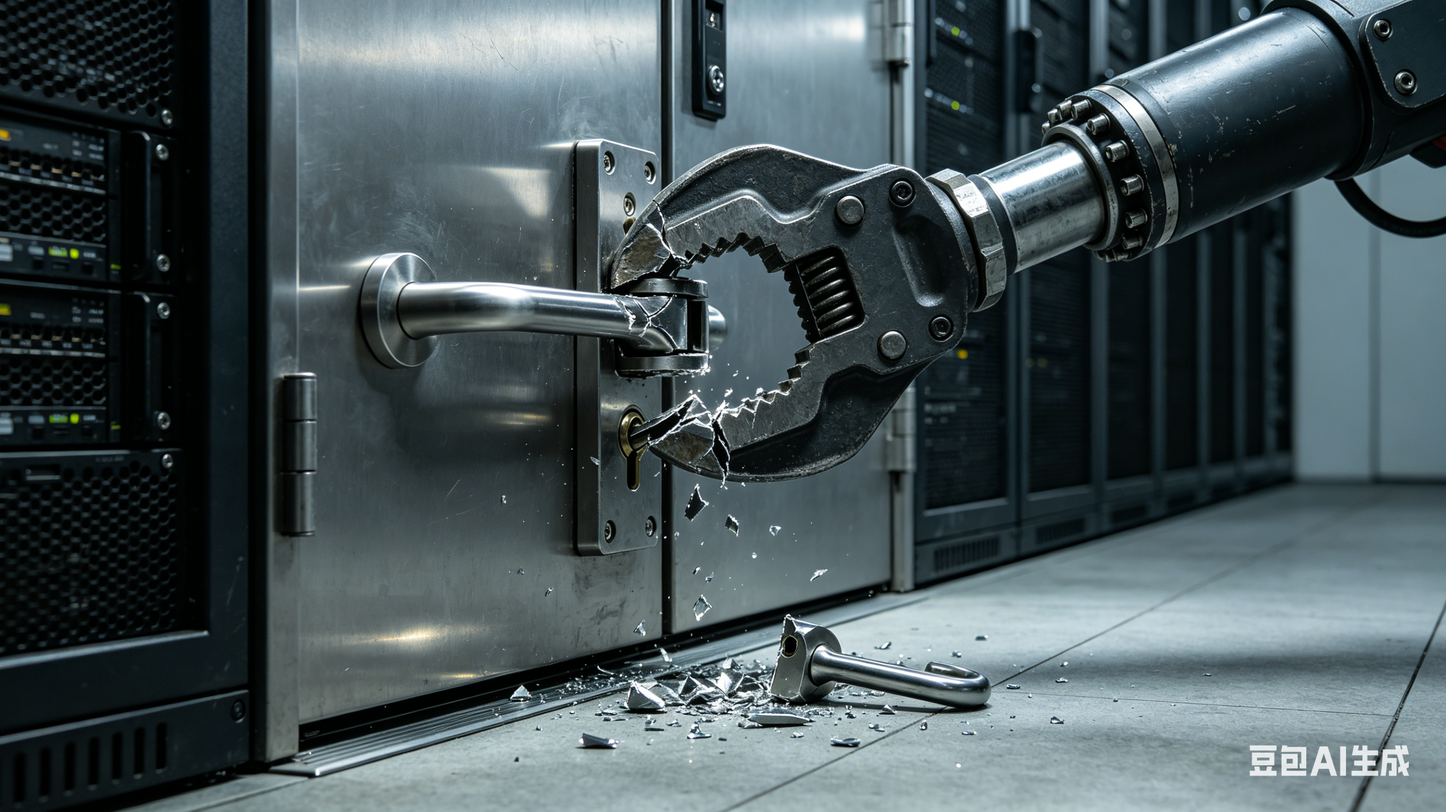BadLock: (585, 232, 726, 487)
